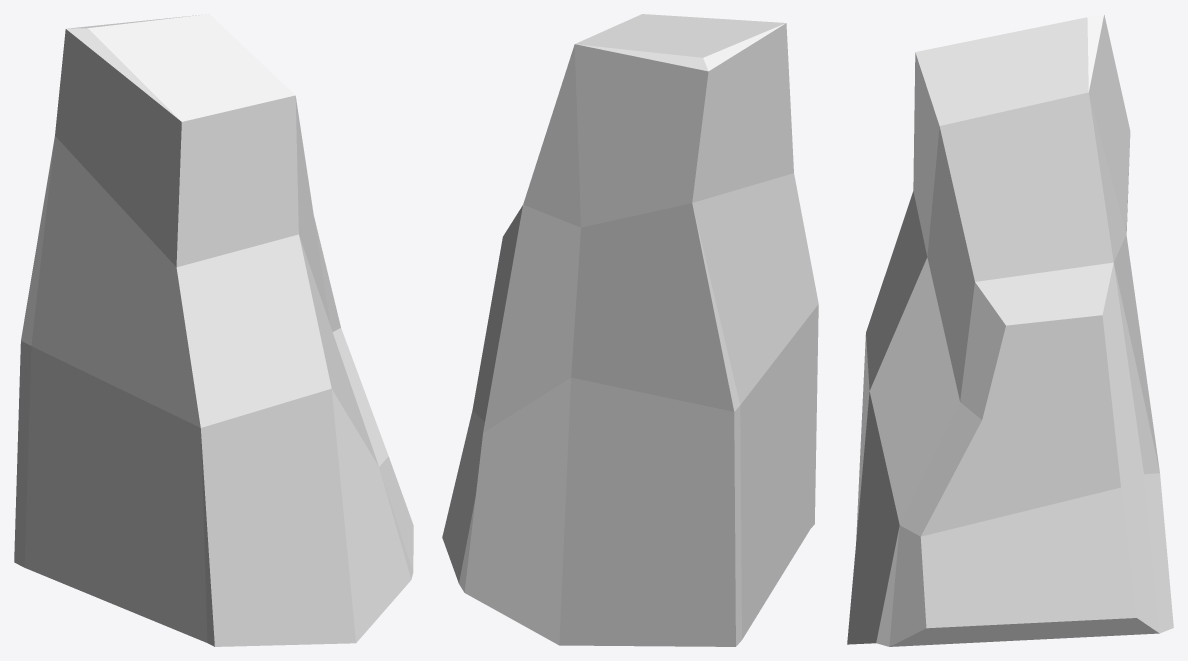
File: Rock1.fbx
3 renders of one model, left to right at view 1: azimuth 30°, elevation 25°; view 2: azimuth 150°, elevation 25°; view 3: azimuth 270°, elevation 25°, orthographic. The views are drawn at different scales.
Parts seen in each view (by area): view 1: Rock_1_Cube.018; view 2: Rock_1_Cube.018; view 3: Rock_1_Cube.018.
Boxes of the visible parts, <box> form: Rock_1_Cube.018: <box>14,14,413,646</box>; Rock_1_Cube.018: <box>442,14,818,646</box>; Rock_1_Cube.018: <box>847,14,1173,646</box>.
Bounding box in the file's own units: 48.53 × 87.77 × 46.67.
